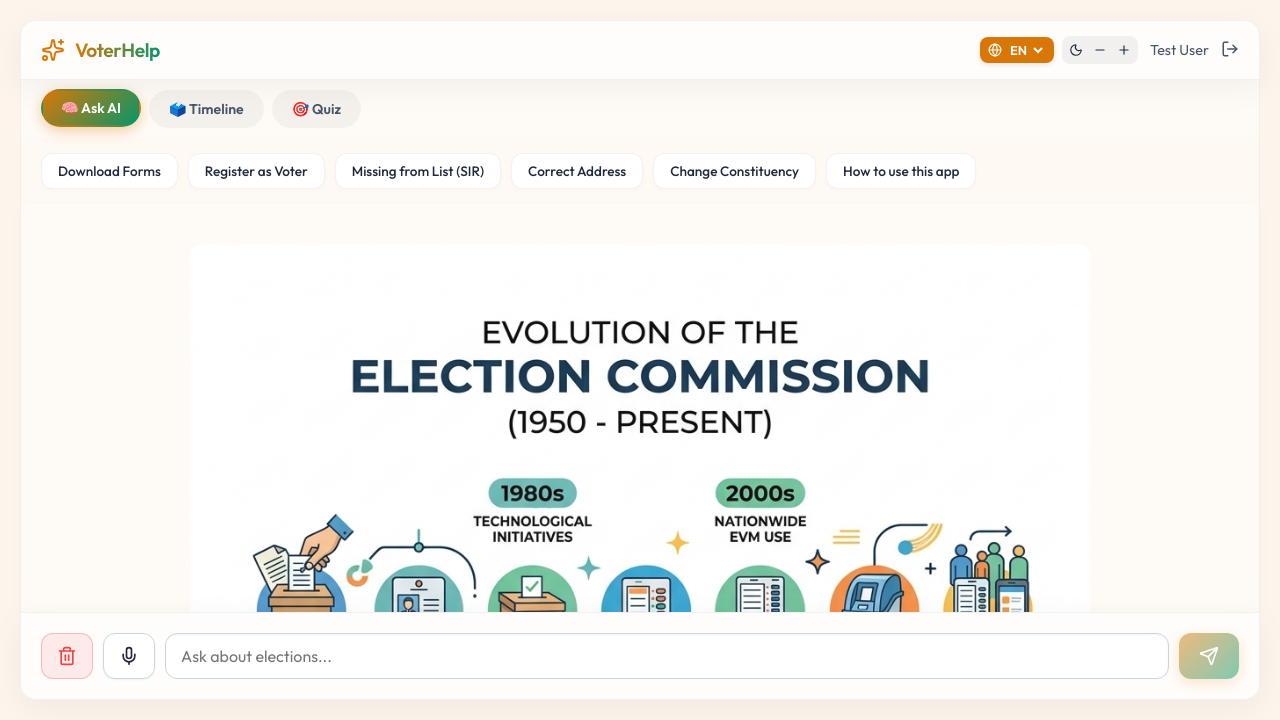
Scenario: Mic Feature Test › starts listening when mic button is clicked
Click to start listening
What coordinates should you click on to do the following:
click the button titled "Start speaking"
I would click on:
 (129, 656)
Its box is x1=103 y1=633 x2=155 y2=679.
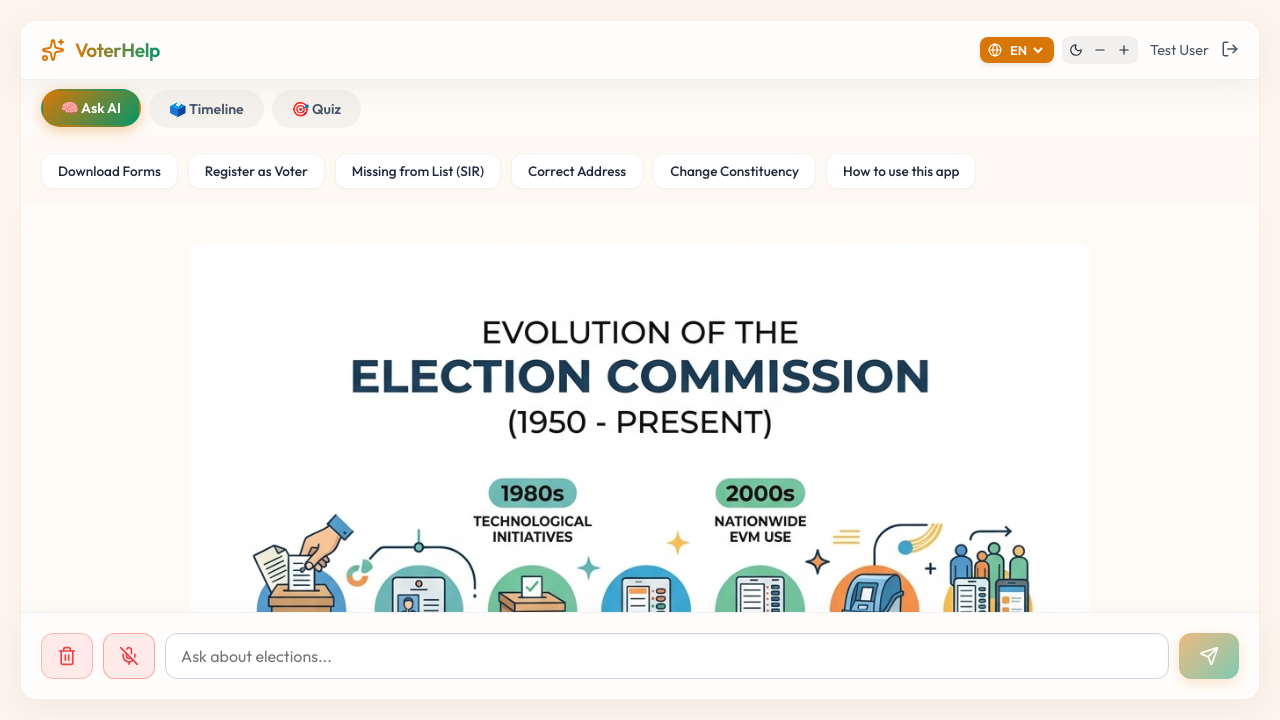
Check: the button titled "Stop listening" is shown, box x1=103 y1=633 x2=155 y2=679
